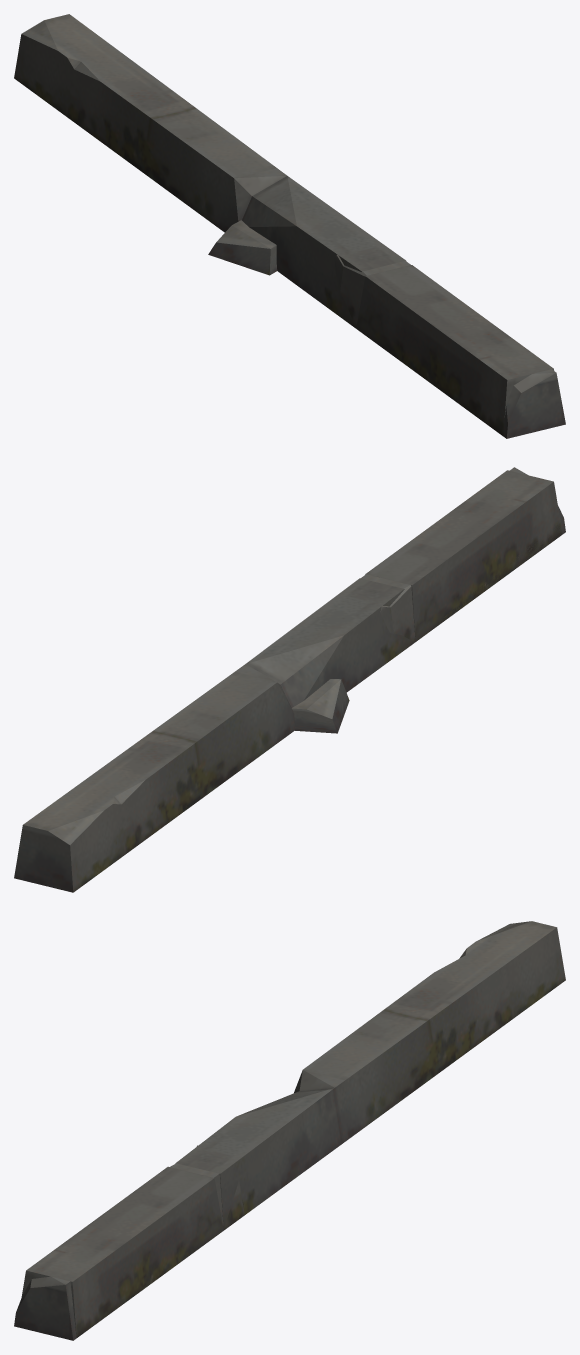
Rendered from bz_road_poreb_01.fbx.
3 views of the same model, one above another, from view 1: azimuth 30°, elevation 25°; view 2: azimuth 150°, elevation 25°; view 3: azimuth 330°, elevation 25° (orthographic).
Parts seen in each view (by area): view 1: bz_road_poreb_01, bz_road_poreb_01.001; view 2: bz_road_poreb_01, bz_road_poreb_01.001; view 3: bz_road_poreb_01, bz_road_poreb_01.001.
Boxes of the visible parts, x1=… form: bz_road_poreb_01: x1=14, y1=14, x2=554, y2=435; bz_road_poreb_01.001: x1=208, y1=220, x2=565, y2=438; bz_road_poreb_01: x1=14, y1=470, x2=562, y2=892; bz_road_poreb_01.001: x1=291, y1=467, x2=565, y2=733; bz_road_poreb_01: x1=21, y1=921, x2=565, y2=1337; bz_road_poreb_01.001: x1=14, y1=1145, x2=244, y2=1340.
Bounding box in the file's own units: 0.2229 × 0.12 × 2.01.
